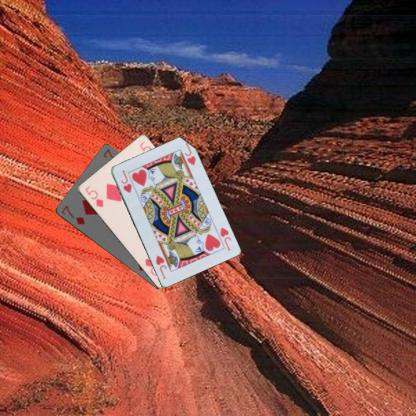5d: (82, 182, 104, 209)
7d: (58, 203, 86, 226)
Jh: (218, 224, 232, 252), (118, 168, 133, 194)
